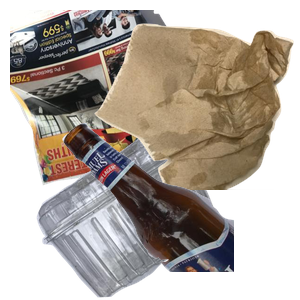glass: (60, 120, 300, 300)
paper: (10, 10, 241, 188)
plastic: (34, 130, 246, 300)
trash: (92, 21, 300, 201)
